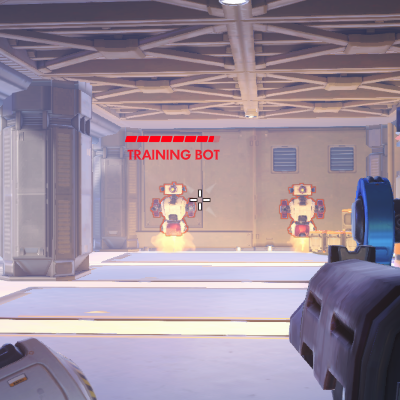hpbar: (124, 135, 221, 143)
